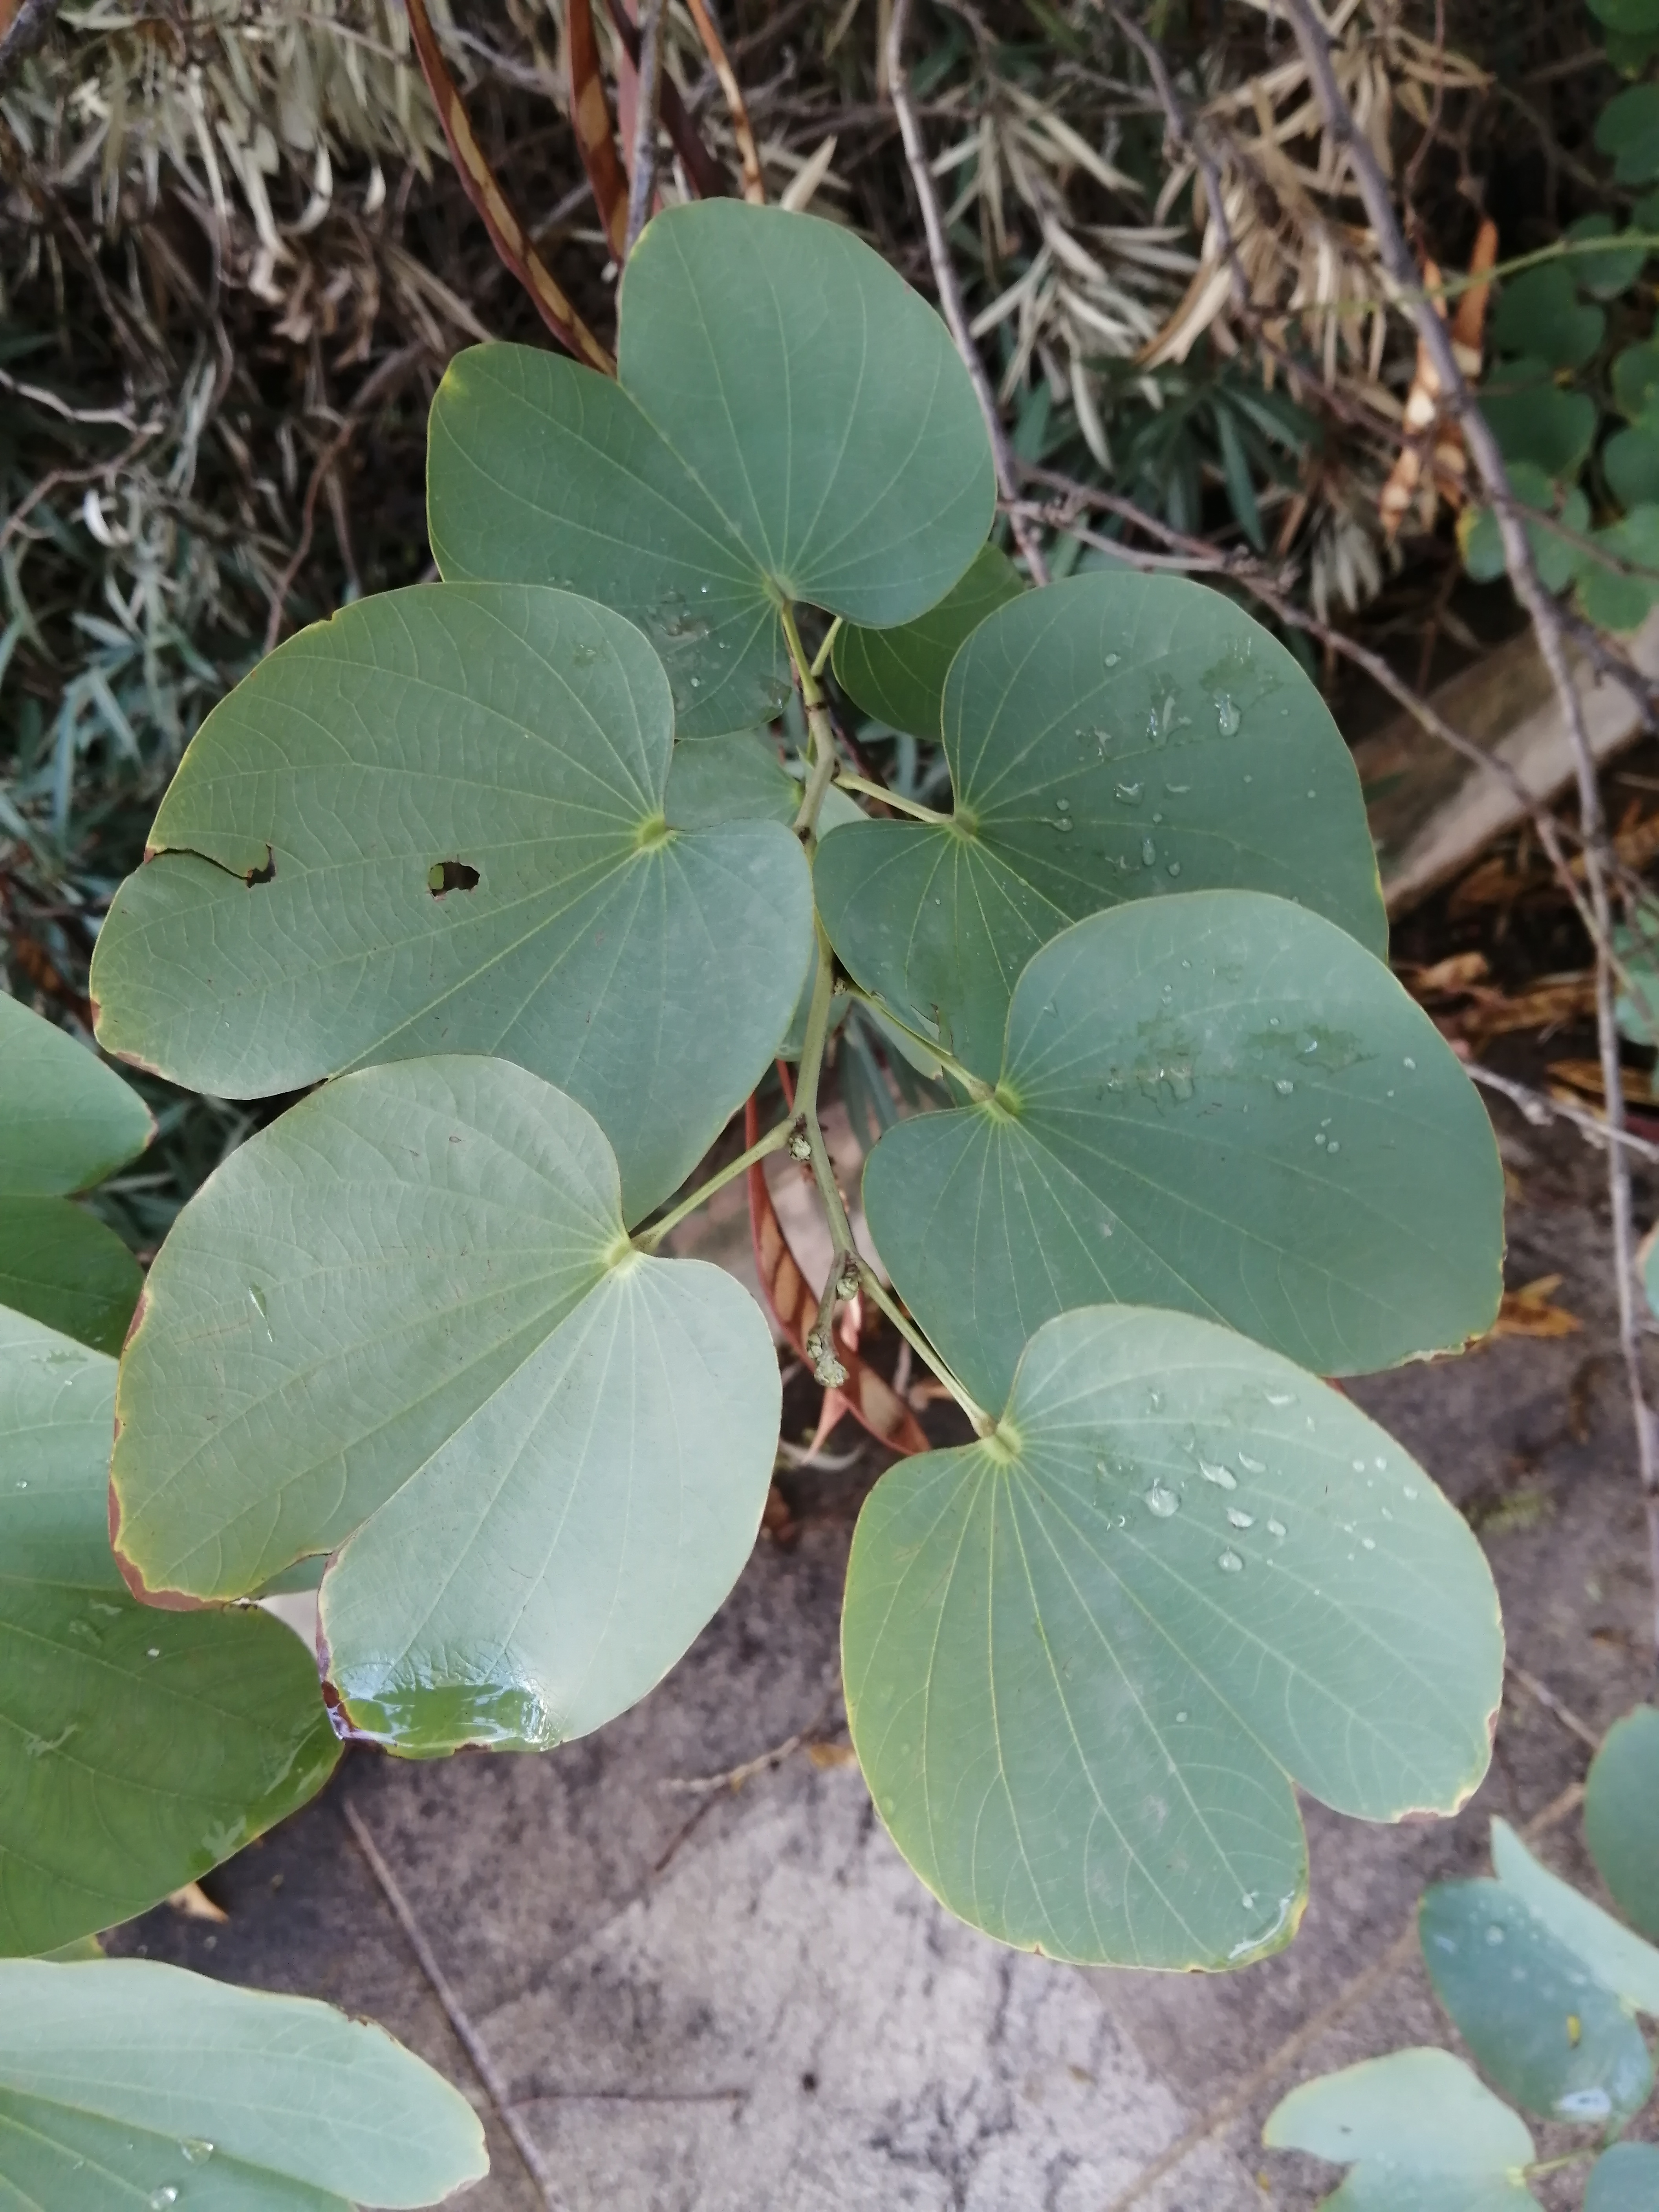healthy: (779, 1362, 1570, 2010), (803, 942, 1553, 1414), (411, 195, 995, 725), (831, 571, 1483, 1040)
nothealthy: (47, 1075, 817, 1773), (82, 596, 939, 1207)
